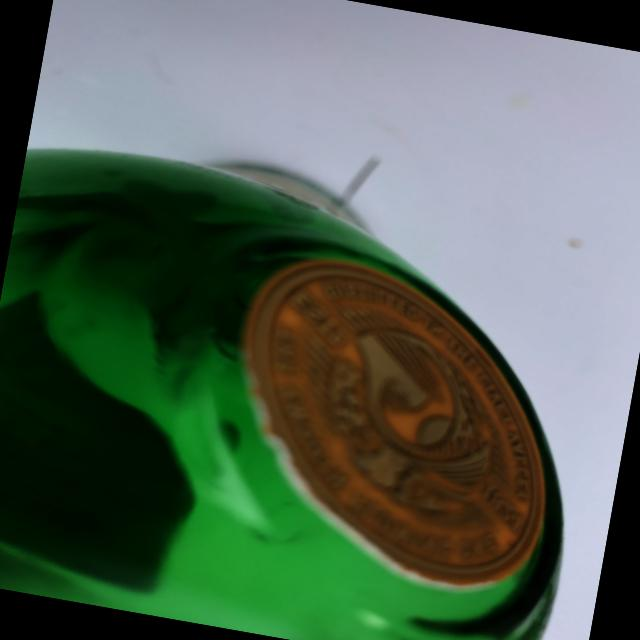Glass: (0, 114, 627, 640)
